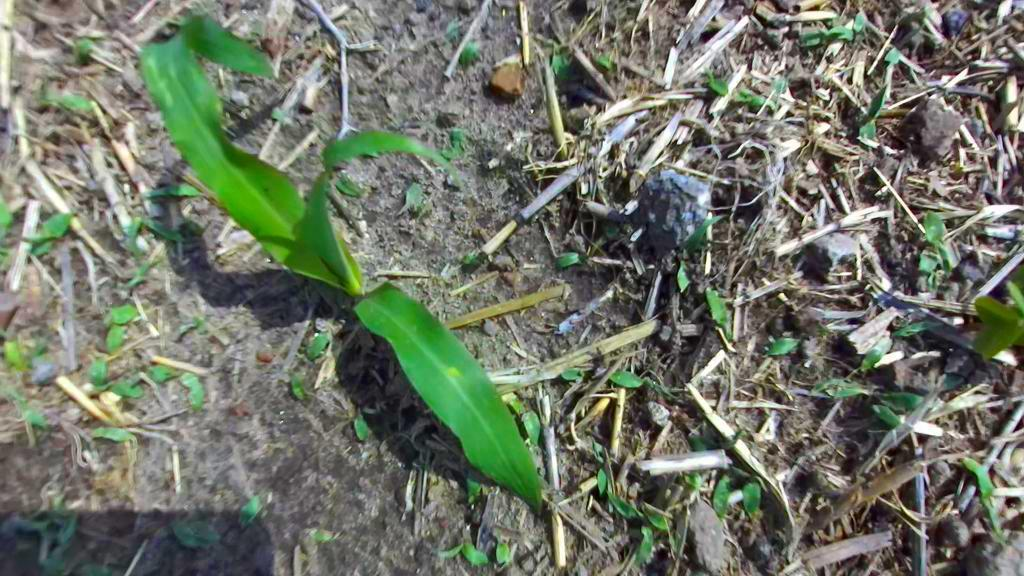BroWeed: (852, 308, 942, 372), (811, 372, 924, 418), (972, 269, 1024, 364), (963, 452, 1012, 535), (120, 203, 184, 259), (676, 201, 729, 263), (501, 386, 552, 448), (35, 77, 95, 128), (14, 206, 81, 251), (534, 24, 582, 85), (85, 316, 137, 367), (919, 209, 956, 278), (598, 488, 656, 532), (2, 386, 54, 433), (701, 282, 740, 342), (881, 15, 925, 68), (231, 484, 277, 531), (855, 80, 888, 141), (115, 255, 165, 295), (451, 30, 497, 73), (606, 365, 664, 399), (30, 525, 68, 576), (174, 366, 213, 415), (40, 526, 77, 576), (437, 536, 491, 570), (182, 513, 227, 550), (165, 512, 203, 555), (909, 248, 946, 291), (0, 508, 51, 539), (795, 23, 856, 48), (587, 436, 611, 498), (0, 326, 29, 377), (734, 84, 778, 116), (917, 267, 954, 305), (97, 385, 134, 422), (166, 311, 209, 342), (695, 64, 734, 98), (97, 300, 139, 331), (395, 179, 425, 222), (687, 429, 743, 452), (300, 328, 334, 364), (332, 169, 368, 202), (84, 355, 114, 393), (32, 475, 62, 513), (147, 355, 182, 386), (54, 509, 80, 550), (637, 505, 675, 533), (345, 407, 373, 445), (634, 523, 658, 566), (110, 375, 145, 404), (144, 181, 200, 199), (809, 305, 864, 323), (266, 104, 299, 134), (462, 467, 488, 505), (710, 474, 733, 516), (869, 400, 902, 429), (741, 480, 762, 525), (71, 35, 101, 66), (302, 525, 343, 547), (670, 258, 695, 294), (49, 482, 70, 524), (491, 526, 512, 567), (871, 347, 907, 370), (89, 426, 137, 443), (764, 336, 803, 356), (0, 190, 12, 254), (442, 15, 463, 49), (554, 248, 587, 269), (29, 236, 58, 259), (678, 467, 706, 490), (940, 370, 964, 396), (442, 130, 463, 159), (560, 363, 587, 385), (768, 71, 792, 95), (586, 232, 610, 256), (24, 338, 50, 360), (79, 563, 120, 576), (125, 364, 146, 388), (290, 372, 308, 400), (602, 218, 622, 243), (593, 43, 610, 72), (850, 10, 868, 35), (986, 528, 1008, 548), (15, 333, 39, 351), (993, 493, 1010, 516), (521, 438, 541, 457), (916, 274, 930, 293), (462, 254, 481, 266), (999, 526, 1013, 542), (669, 529, 677, 554), (361, 151, 382, 158), (826, 16, 837, 29), (0, 253, 6, 266)
